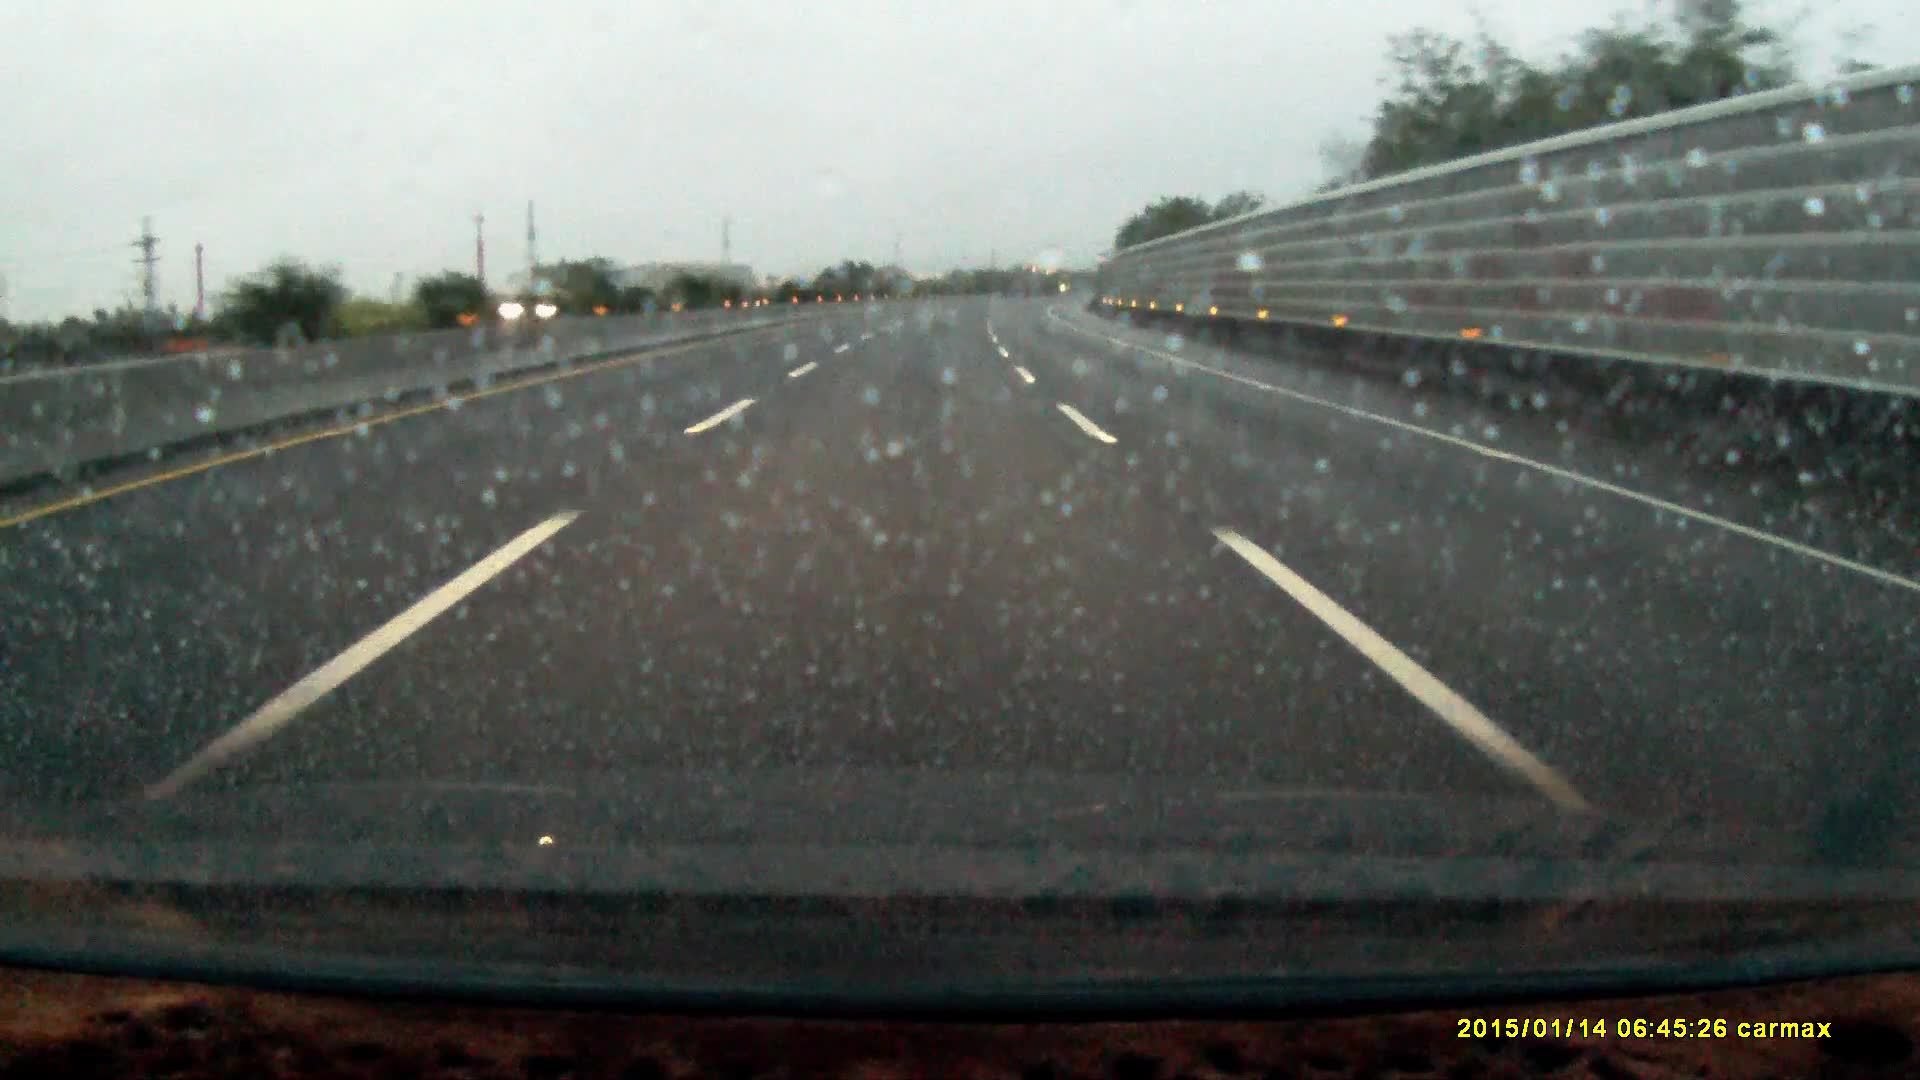vehicle: (491, 289, 582, 326)
